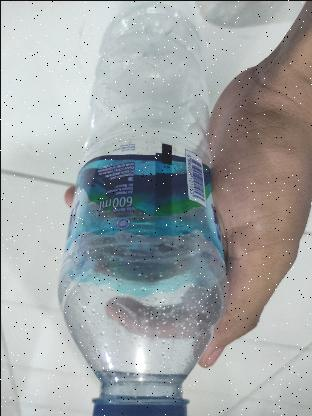Plastic Bottle: (51, 0, 248, 416)
